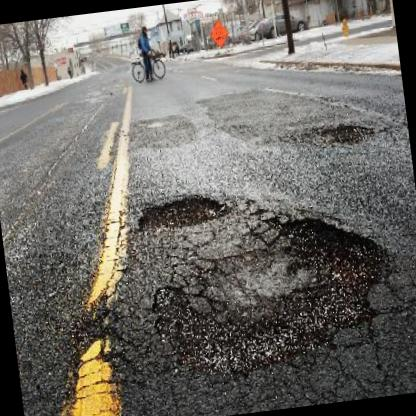pothole: (138, 198, 403, 386), (130, 188, 233, 234), (304, 117, 375, 150)
